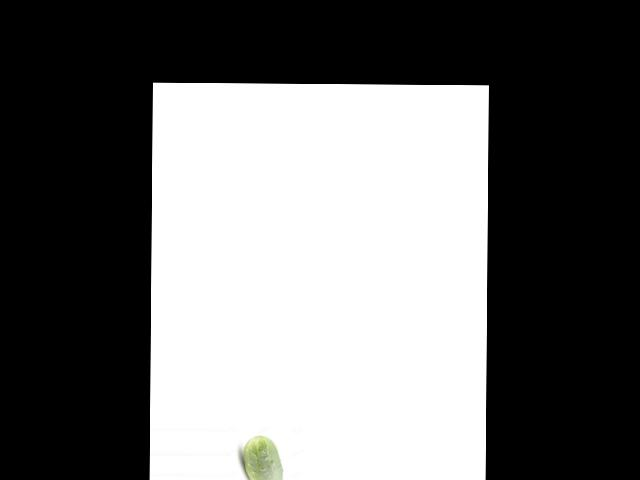cucumber: (242, 435, 284, 480)
